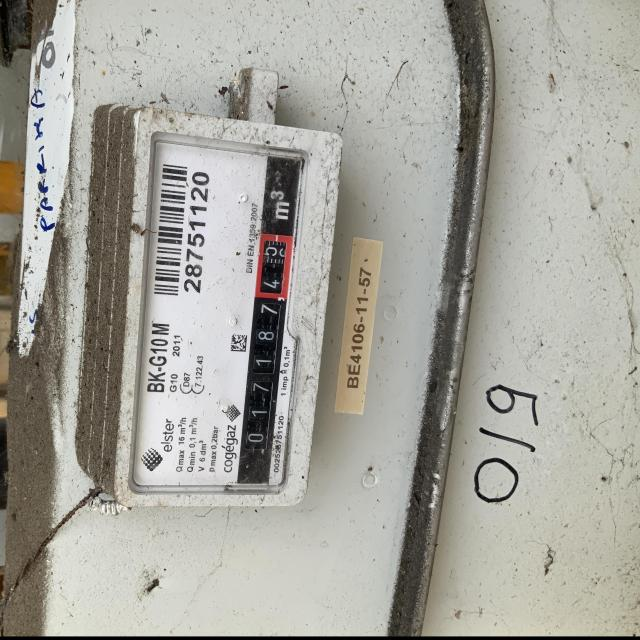gaz_meter: (140, 121, 302, 498)
indication: (237, 155, 305, 485)
